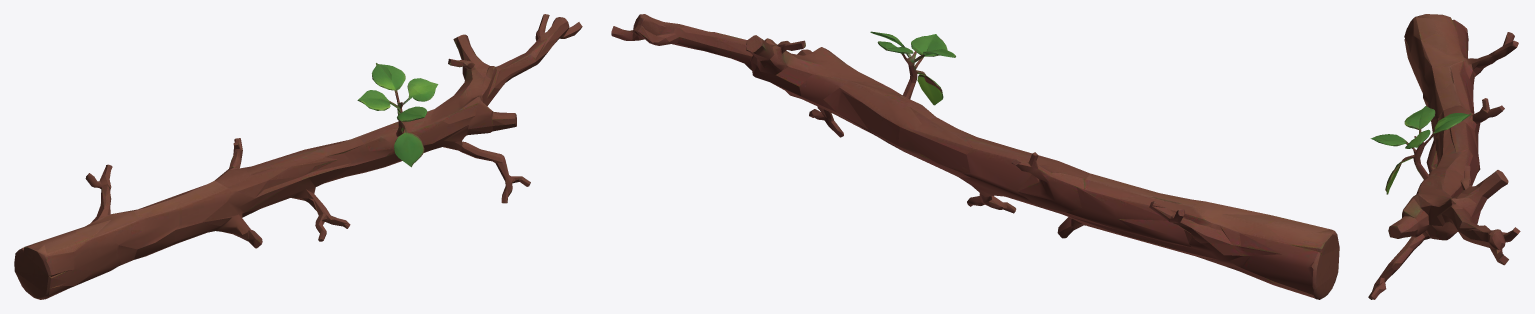
Rendered from treeBranch.glb.
3 views of the same model, side by side, from view 1: azimuth 30°, elevation 25°; view 2: azimuth 150°, elevation 25°; view 3: azimuth 270°, elevation 25° (orthographic). The views are drawn at different scales.
Size of the model in its own units: 1.9 by 0.4365 by 0.3907.
Materials: 1 (1 with a texture image).
